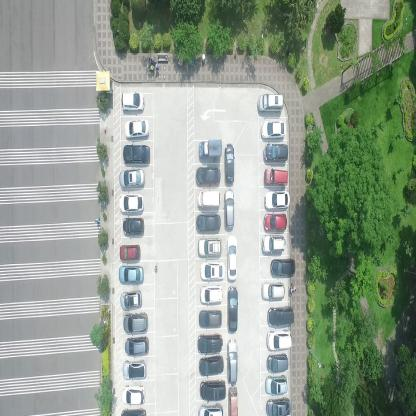car: (122, 310, 149, 336), (200, 376, 226, 402), (118, 167, 146, 191), (122, 358, 148, 382), (123, 144, 151, 166), (226, 338, 238, 387), (258, 93, 284, 115), (267, 328, 293, 350), (197, 332, 223, 354), (124, 118, 150, 140), (118, 264, 144, 286), (118, 193, 145, 214), (261, 118, 286, 140), (227, 284, 238, 334), (199, 354, 224, 376), (263, 143, 289, 164), (197, 237, 223, 258), (124, 336, 150, 357), (227, 233, 238, 282), (119, 289, 142, 312), (198, 138, 222, 160), (121, 90, 145, 112), (122, 383, 146, 405), (199, 261, 224, 282), (198, 309, 223, 330), (195, 166, 221, 186), (195, 213, 221, 233), (224, 142, 236, 185), (224, 189, 236, 231), (270, 256, 295, 276), (267, 306, 293, 325), (266, 396, 292, 415), (265, 373, 287, 395), (265, 166, 289, 186), (199, 285, 224, 304), (264, 191, 290, 209), (261, 281, 285, 300), (264, 212, 287, 231), (119, 243, 142, 262), (197, 191, 221, 209), (266, 354, 288, 373), (122, 217, 144, 236), (262, 234, 285, 252), (198, 402, 223, 416), (228, 386, 239, 415), (120, 405, 146, 415)
